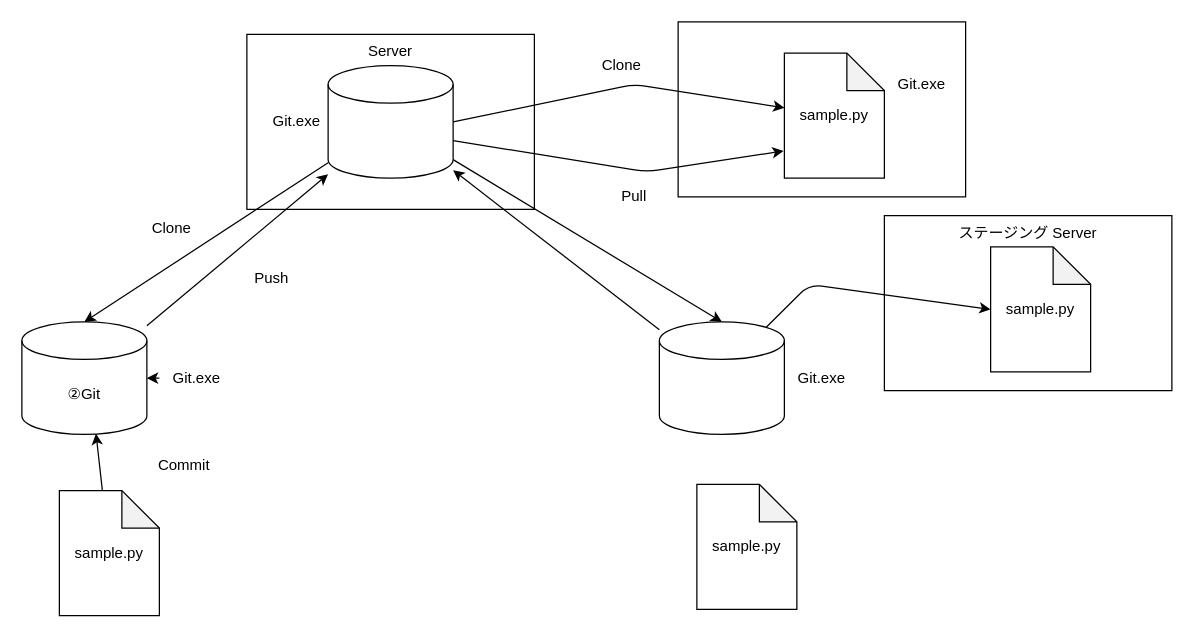
The diagram is 1194 pixels wide and 638 high, and some of its shapes have lost their labels. Here are the shapes that lost their labels. From the top down, the box of each, then its label:
(327, 64, 453, 178): ① Git
(677, 21, 966, 197): 本番 Server
(658, 321, 784, 434): ③Git
